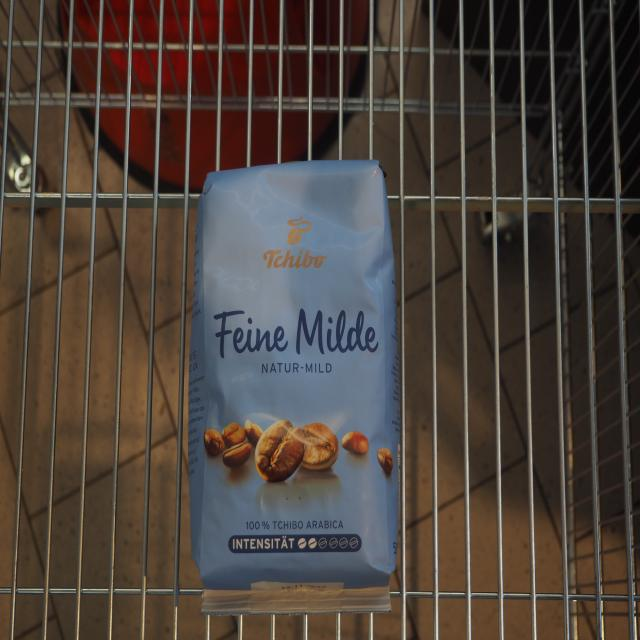FM Bohne: (185, 155, 405, 620)
